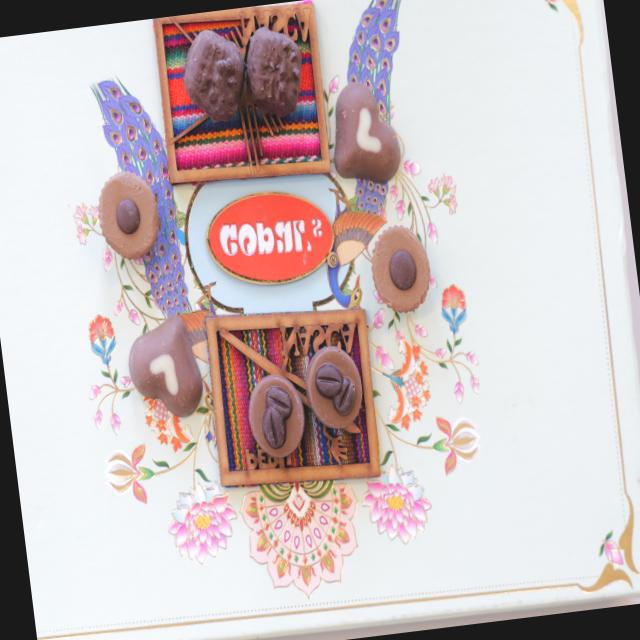Arabia: (244, 372, 310, 459), (302, 344, 367, 432)
Noblesse: (94, 169, 164, 262), (366, 224, 434, 314)
Passion_au_lait: (124, 314, 205, 421), (326, 77, 404, 186)
Tentation_noir: (178, 27, 252, 122), (240, 22, 308, 116)
